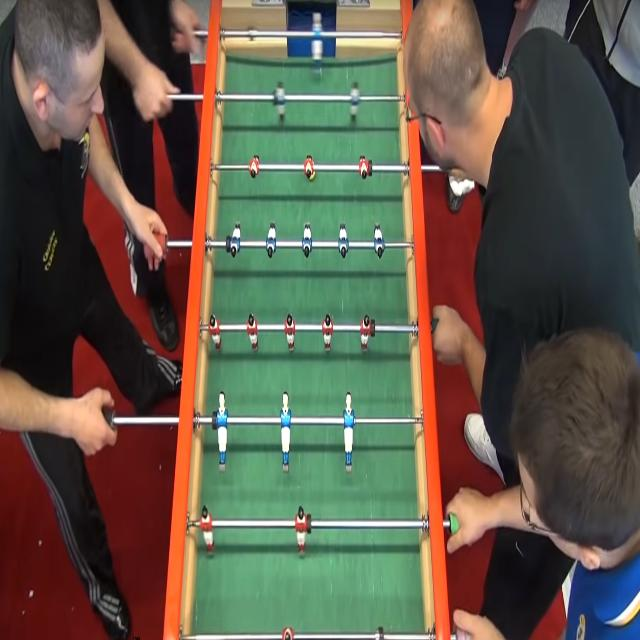ball: (308, 169, 320, 182)
